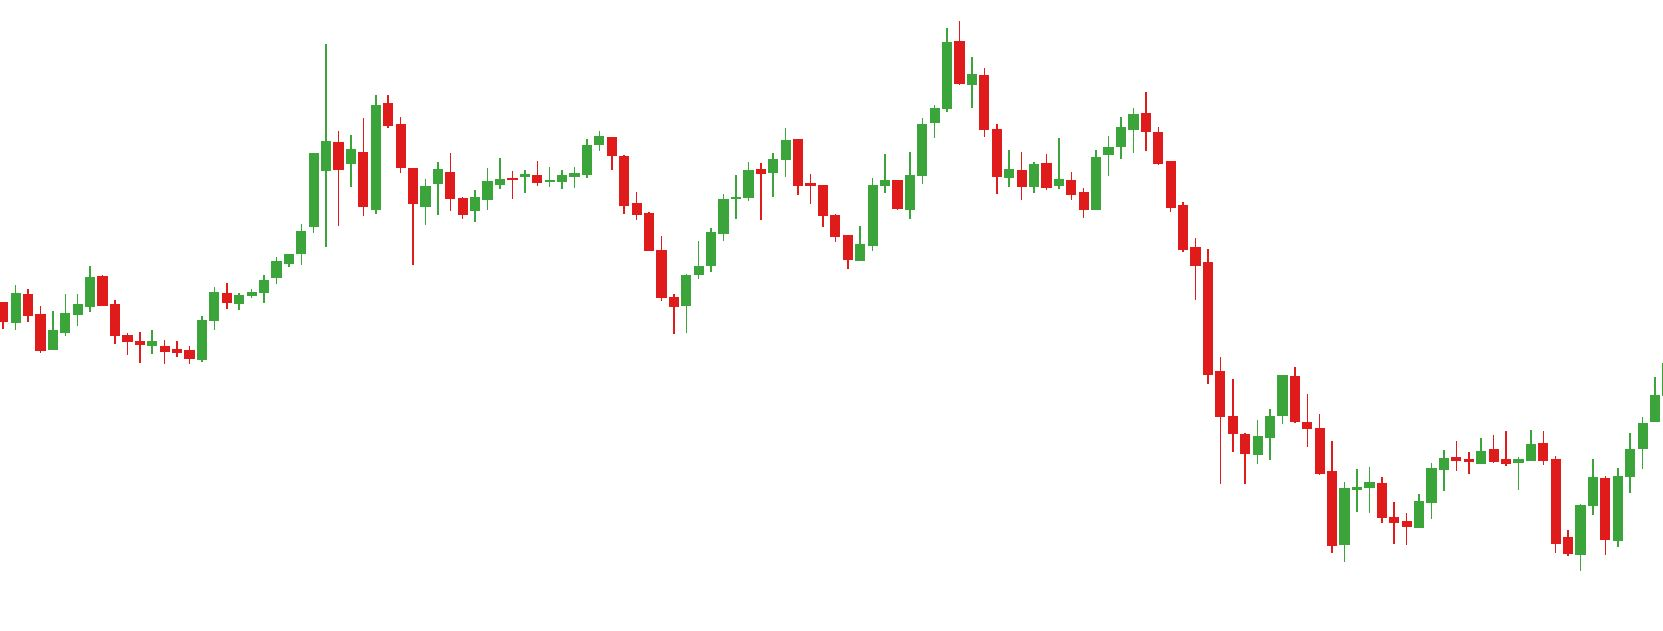buy: (406, 180, 706, 334), (1390, 465, 1587, 571)
sell: (1055, 91, 1163, 191)
